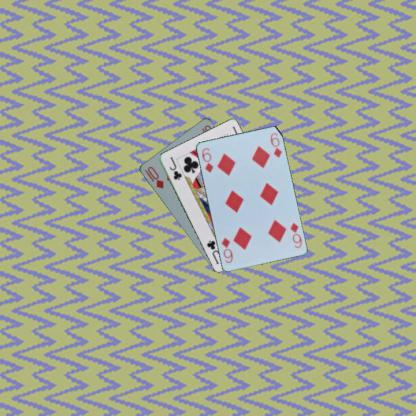10d: (142, 164, 165, 190)
6d: (287, 220, 303, 249), (200, 145, 214, 173)
Jc: (166, 154, 184, 182)
